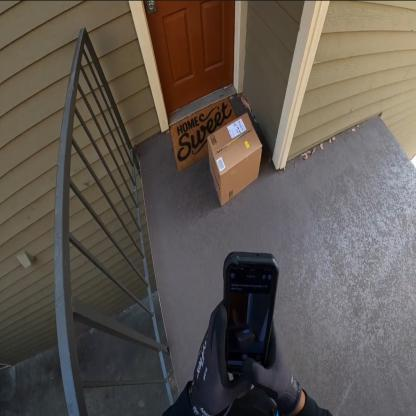package: (205, 109, 264, 212)
